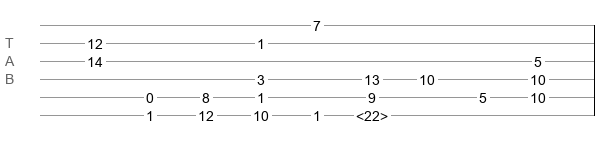0: (146, 90, 154, 100)
1: (146, 108, 154, 118), (257, 36, 265, 46), (257, 90, 265, 100), (313, 108, 321, 118)
10: (253, 108, 269, 118), (419, 72, 435, 82), (530, 90, 546, 100), (530, 72, 546, 82)
12: (87, 36, 103, 46), (198, 108, 214, 118)
13: (364, 72, 380, 82)
14: (87, 54, 103, 64)
3: (257, 72, 265, 82)
5: (479, 90, 487, 100), (534, 54, 542, 64)
7: (313, 18, 321, 28)
8: (202, 90, 210, 100)
9: (368, 90, 376, 100)
harmonic: (356, 108, 388, 118)
